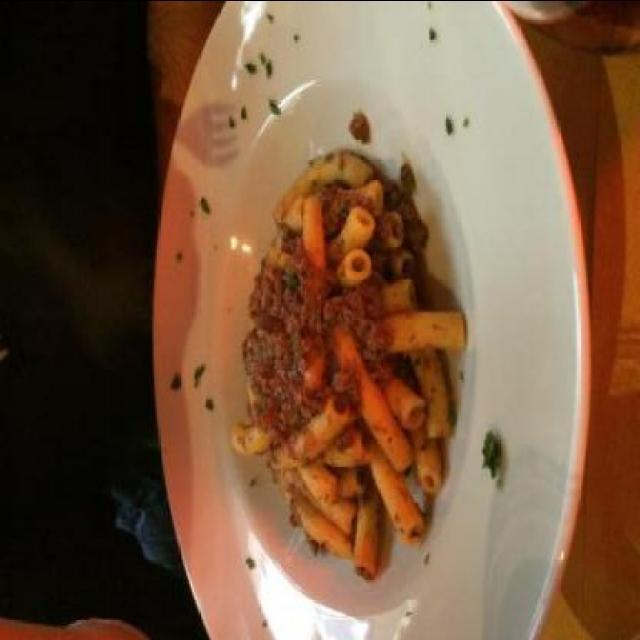Pasta al ragu: (163, 59, 512, 627)
